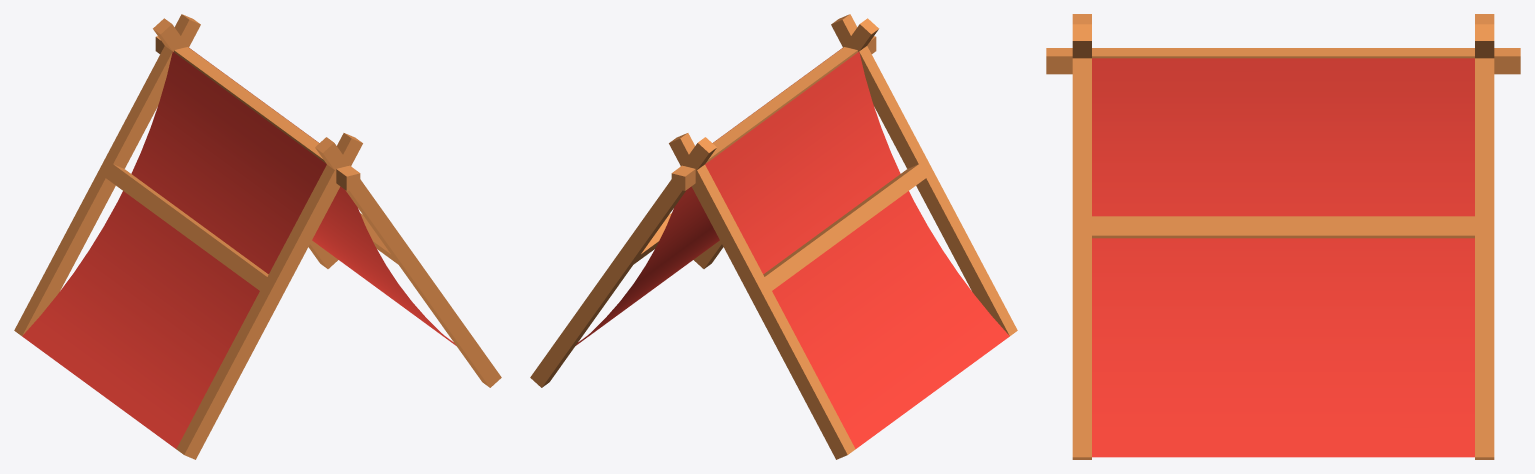
File: Tent.glb
3 views of the same model, side by side, from view 1: azimuth 30°, elevation 25°; view 2: azimuth 150°, elevation 25°; view 3: azimuth 270°, elevation 25° (orthographic). The views are drawn at different scales.
Visible parts, largest first — view 1: tentClosed; view 2: tentClosed; view 3: tentClosed.
Boxes of the visible parts, <box> form: tentClosed: <box>14,14,501,459</box>; tentClosed: <box>530,14,1017,459</box>; tentClosed: <box>1046,14,1520,459</box>.
Bounding box in the file's own units: 0.5392 × 0.4598 × 0.5623.
